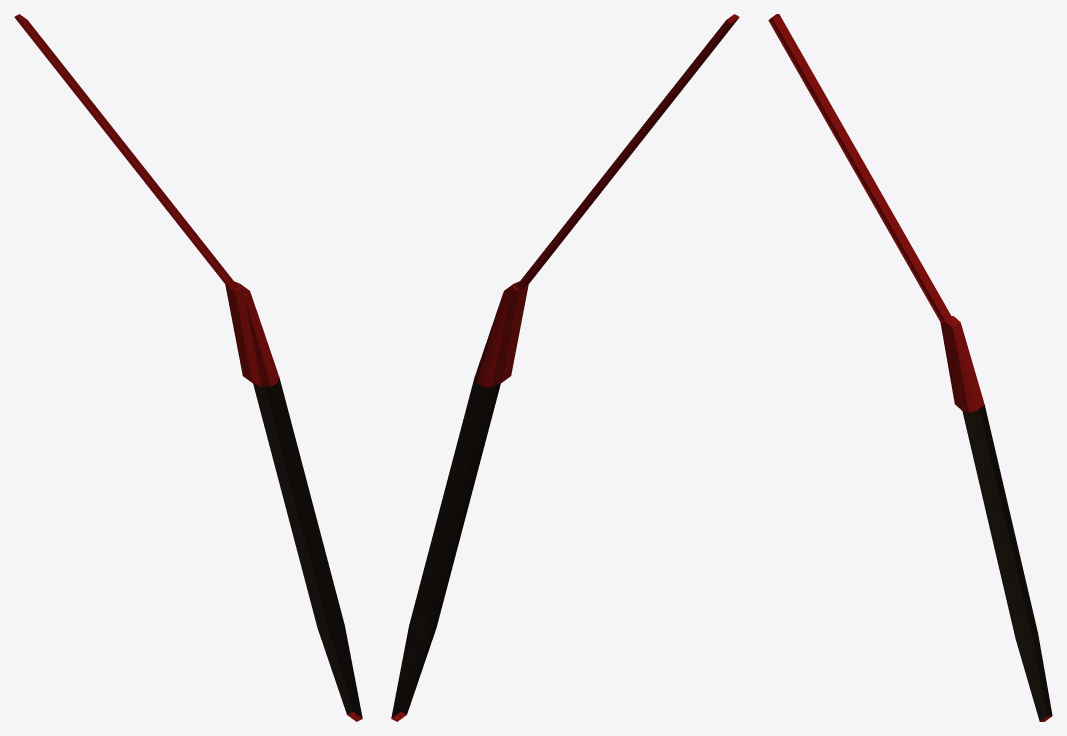
File: CarJack2.fbx
The picture shows the model from 3 angles, left to right: view 1: azimuth 30°, elevation 25°; view 2: azimuth 150°, elevation 25°; view 3: azimuth 330°, elevation 25°; orthographic projection. The views are drawn at different scales.
Visible parts, largest first — view 1: Cube.001; view 2: Cube.001; view 3: Cube.001.
Boxes of the visible parts, bbox=[...] form: Cube.001: bbox=[14, 14, 362, 721]; Cube.001: bbox=[391, 14, 739, 721]; Cube.001: bbox=[768, 14, 1052, 721].
Bounding box in the file's own units: 329 × 724 × 27.96.
